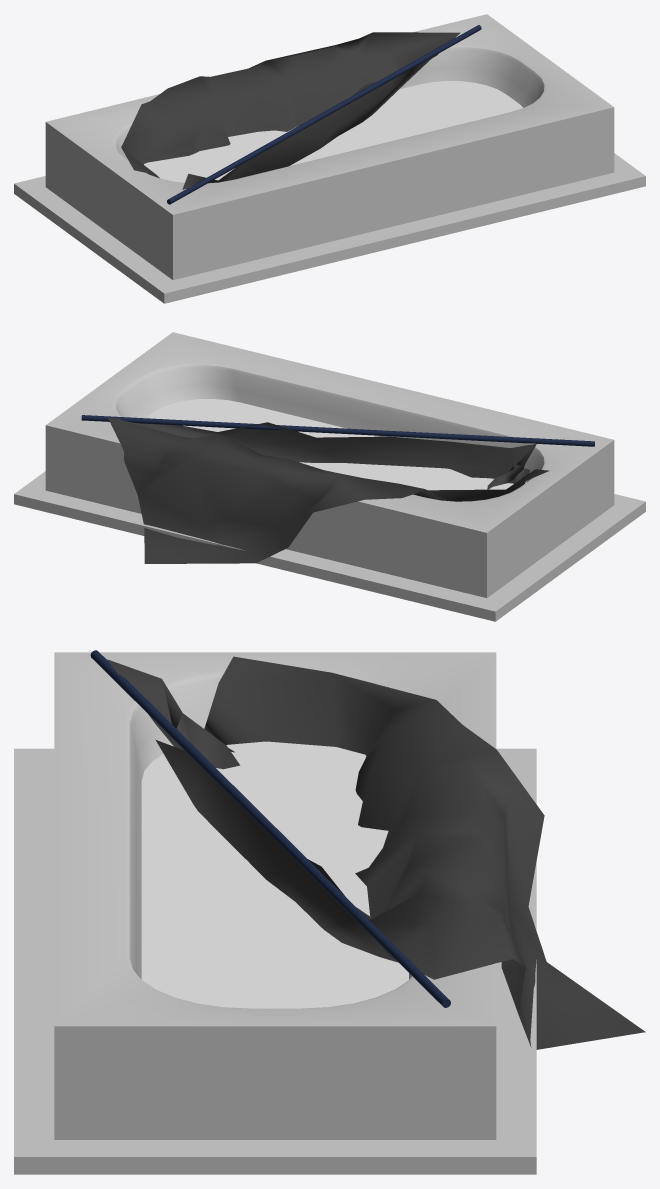
Rendered from bathtub.fbx.
3 renders of one model, top to bottom at view 1: azimuth 30°, elevation 25°; view 2: azimuth 150°, elevation 25°; view 3: azimuth 270°, elevation 25°, orthographic. The views are drawn at different scales.
Parts seen in each view (by area): view 1: Rectangle001, Plane001, Plane002, Line001; view 2: Rectangle001, Plane001, Plane002, Line001; view 3: Rectangle001, Plane001, Plane002, Line001.
Part boxes in pixels (bbox=[...]): Rectangle001: bbox=[14, 14, 645, 303]; Plane001: bbox=[121, 32, 460, 189]; Plane002: bbox=[144, 81, 523, 182]; Line001: bbox=[167, 25, 481, 204]; Rectangle001: bbox=[14, 332, 645, 621]; Plane001: bbox=[108, 417, 560, 563]; Plane002: bbox=[146, 399, 526, 490]; Line001: bbox=[81, 415, 594, 446]; Rectangle001: bbox=[14, 652, 536, 1174]; Plane001: bbox=[107, 656, 645, 1049]; Plane002: bbox=[141, 741, 408, 1008]; Line001: bbox=[90, 650, 450, 1007].
Size of the model in its own units: 240 by 42.52 by 157.
